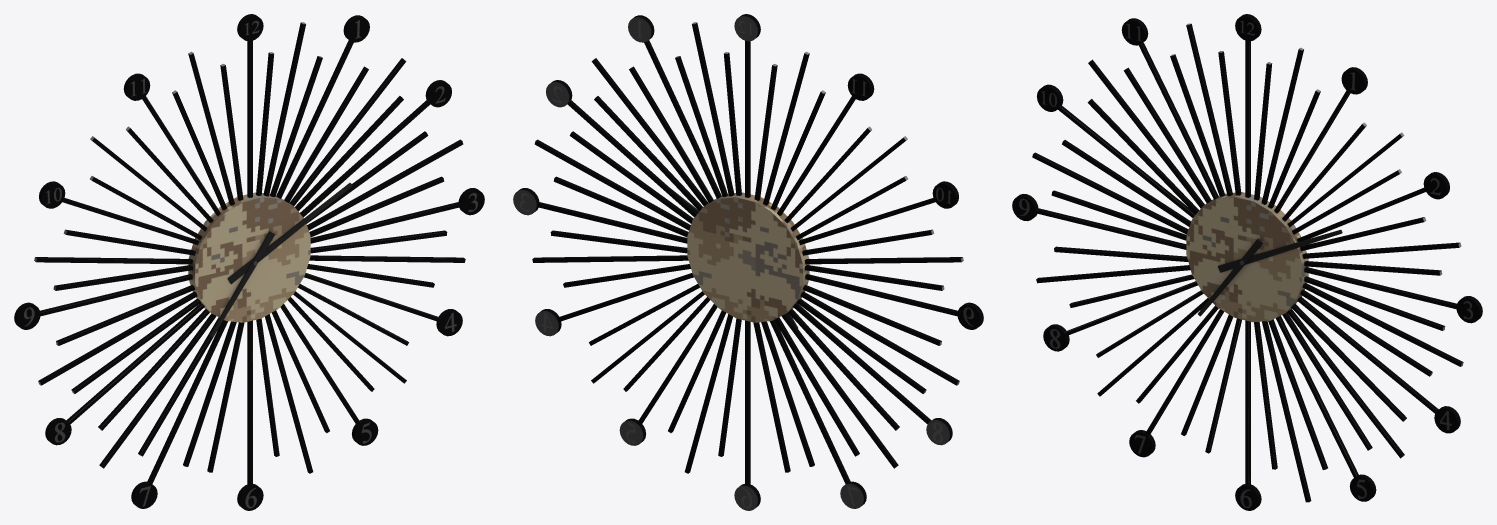
Rendered from diaz_3dclock.obj.
The picture shows the model from 3 angles, left to right: view 1: azimuth 30°, elevation 25°; view 2: azimuth 150°, elevation 25°; view 3: azimuth 330°, elevation 25°; orthographic projection.
Parts seen in each view (by area): view 1: default; view 2: default; view 3: default.
Part boxes in pixels (<box>): default: <box>14,14,484,510</box>; default: <box>513,14,983,510</box>; default: <box>1012,14,1482,510</box>.
Size of the model in its own units: 15.99 by 16.14 by 0.5528.
